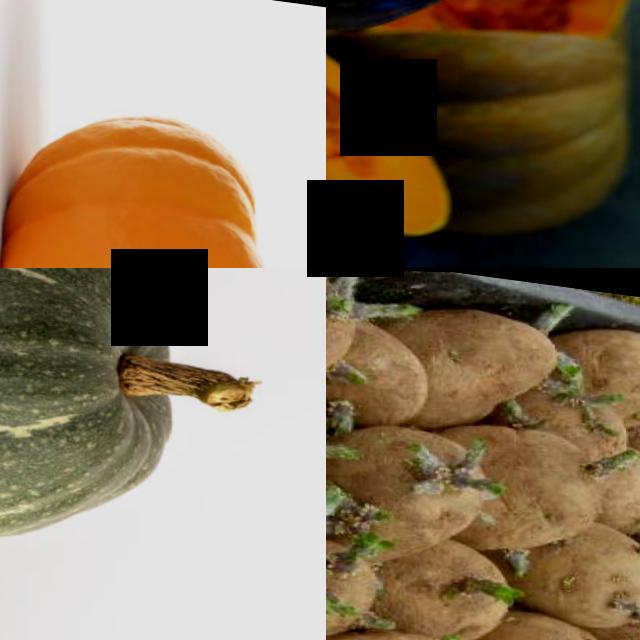potato: (452, 395, 622, 551), (330, 404, 495, 552), (408, 284, 570, 433), (526, 504, 640, 625), (486, 584, 637, 640)
pumpkin: (0, 268, 225, 578), (0, 73, 316, 268), (326, 6, 483, 268)
